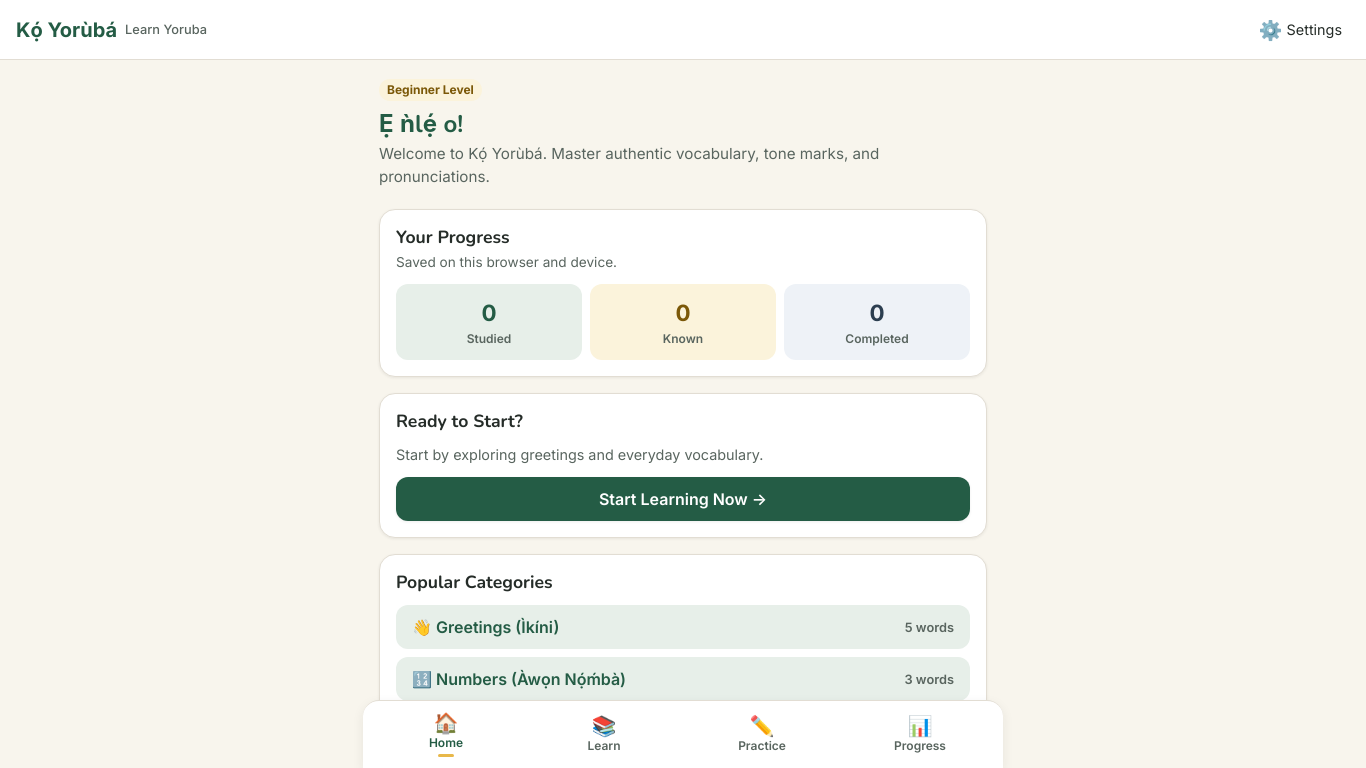
Scenario: App Shell & Navigation › navigates to Progress screen when Progress tab is clicked
Click the button "📊 Progress": (920, 734) [841,701,999,767]
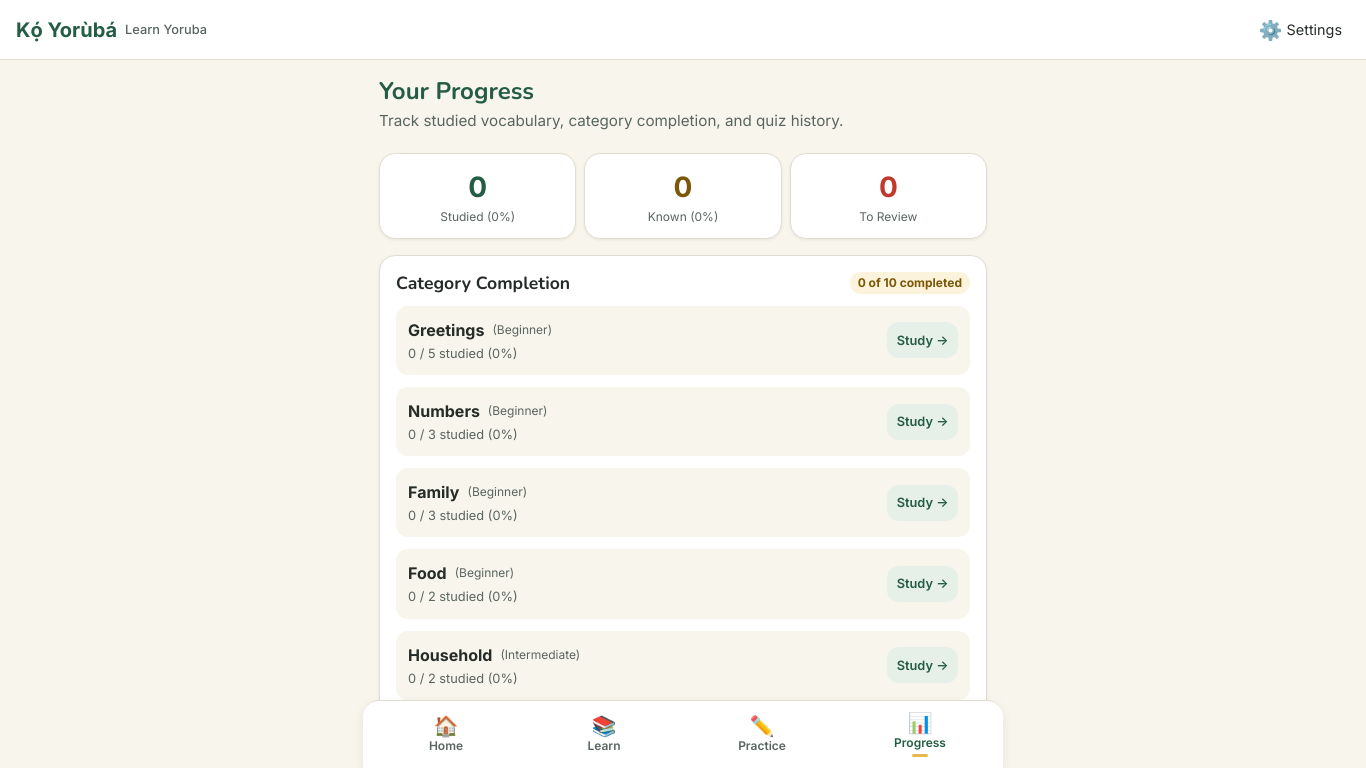
Expected: the heading "Your Progress" is shown, [379,75,534,107]
Expected: the text "studied" is shown, [379,111,844,130]
Expected: the text "Known (0%)" is shown, [648,209,718,224]
